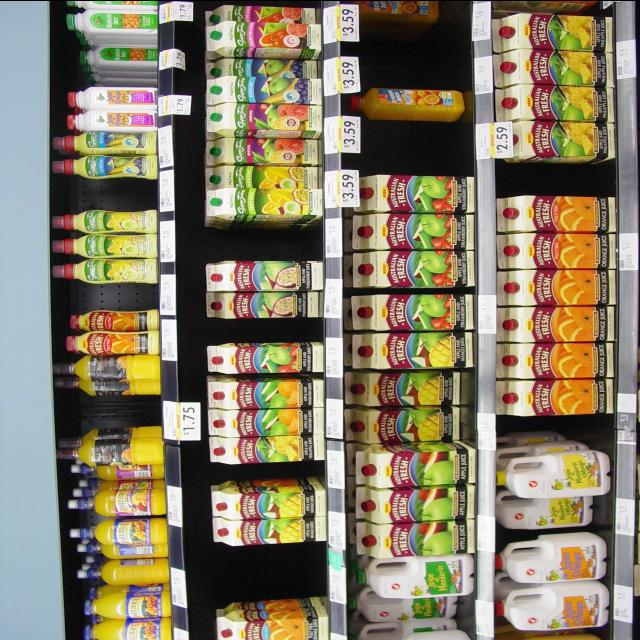empty_space: (374, 14, 462, 78), (219, 547, 317, 596), (371, 131, 468, 169), (61, 177, 159, 209), (499, 163, 609, 189), (215, 226, 318, 252), (501, 417, 598, 439), (202, 320, 318, 336), (68, 285, 156, 306), (72, 399, 156, 417), (229, 466, 315, 483)
